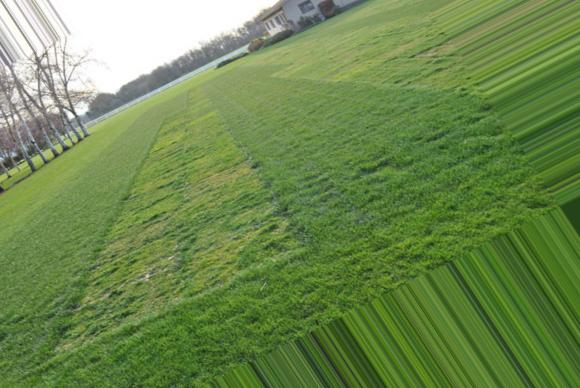patch: (119, 251, 242, 270)
